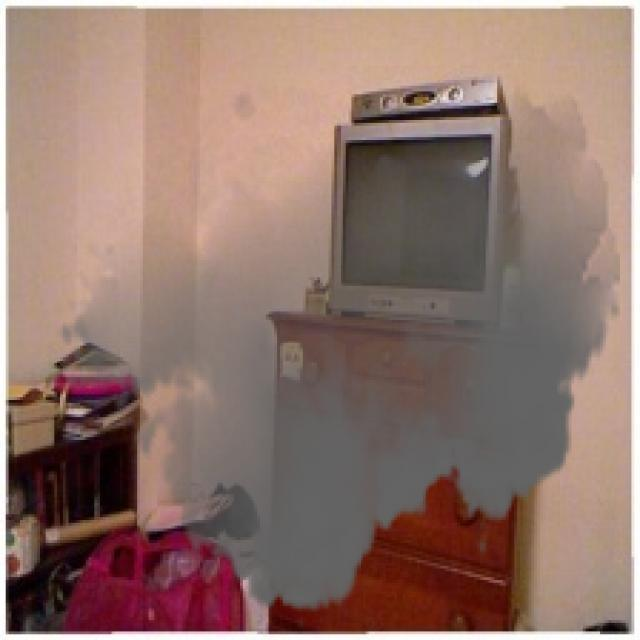Smoke: (57, 66, 620, 632)
